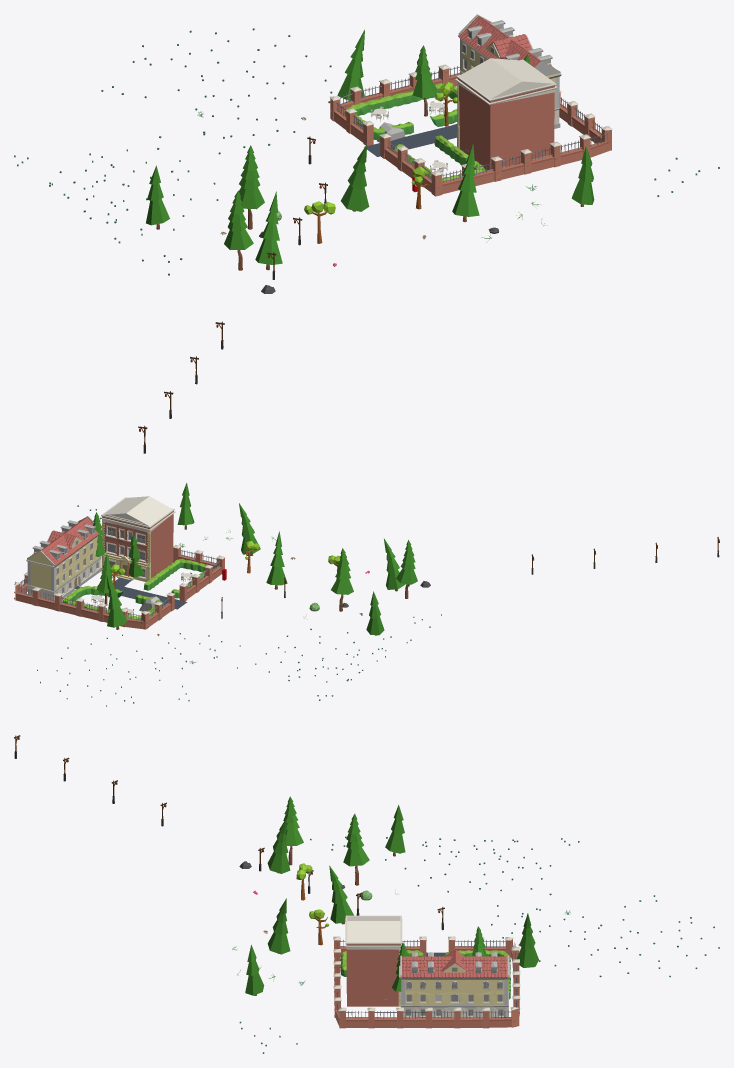
Rendered from chunk_2_2.glb.
The picture shows the model from 3 angles, top to bottom: view 1: azimuth 30°, elevation 25°; view 2: azimuth 150°, elevation 25°; view 3: azimuth 270°, elevation 25°; orthographic projection. The views are drawn at different scales.
Parts seen in each view (by area): view 1: Batched_chunk_2_2; view 2: Batched_chunk_2_2; view 3: Batched_chunk_2_2.
Part boxes in pixels (bbox=[...]): Batched_chunk_2_2: bbox=[14, 14, 719, 453]; Batched_chunk_2_2: bbox=[14, 482, 719, 706]; Batched_chunk_2_2: bbox=[14, 735, 719, 1053].
Bounding box in the file's own units: 111 × 13.58 × 111.
32 materials, 3 textured.
